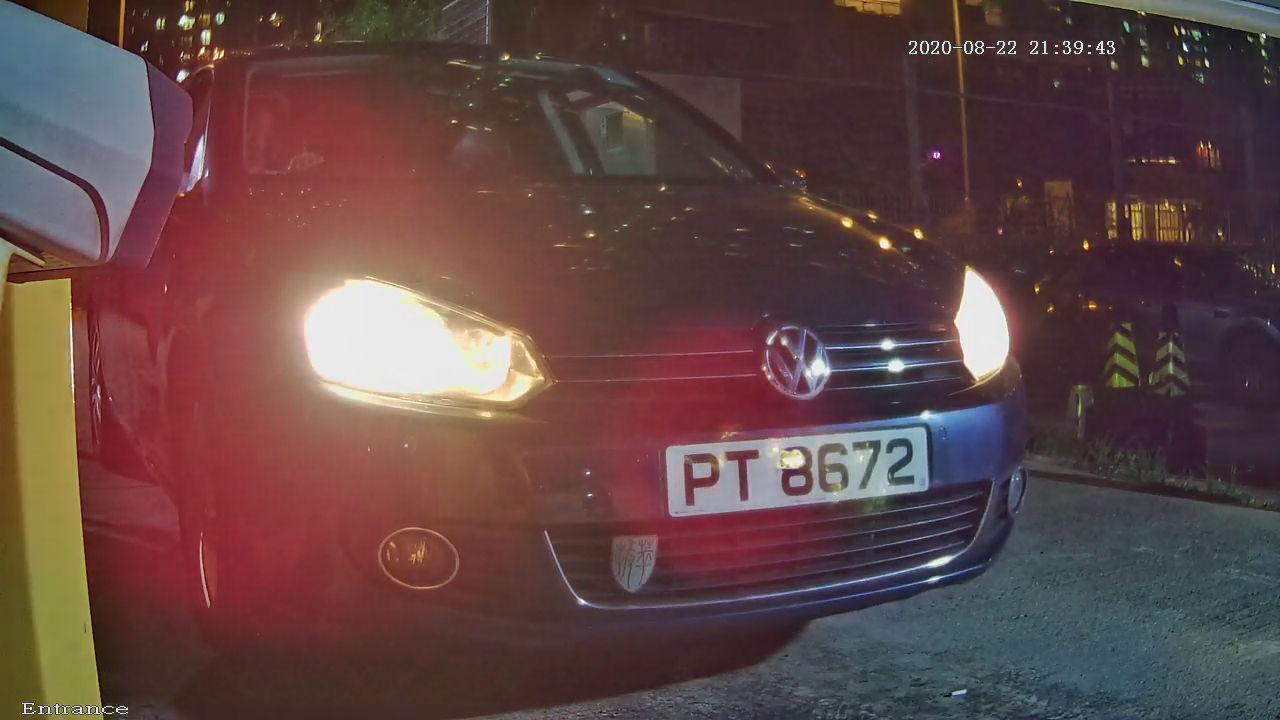Car: (1, 26, 1161, 714)
License Plate: (613, 364, 977, 556)
